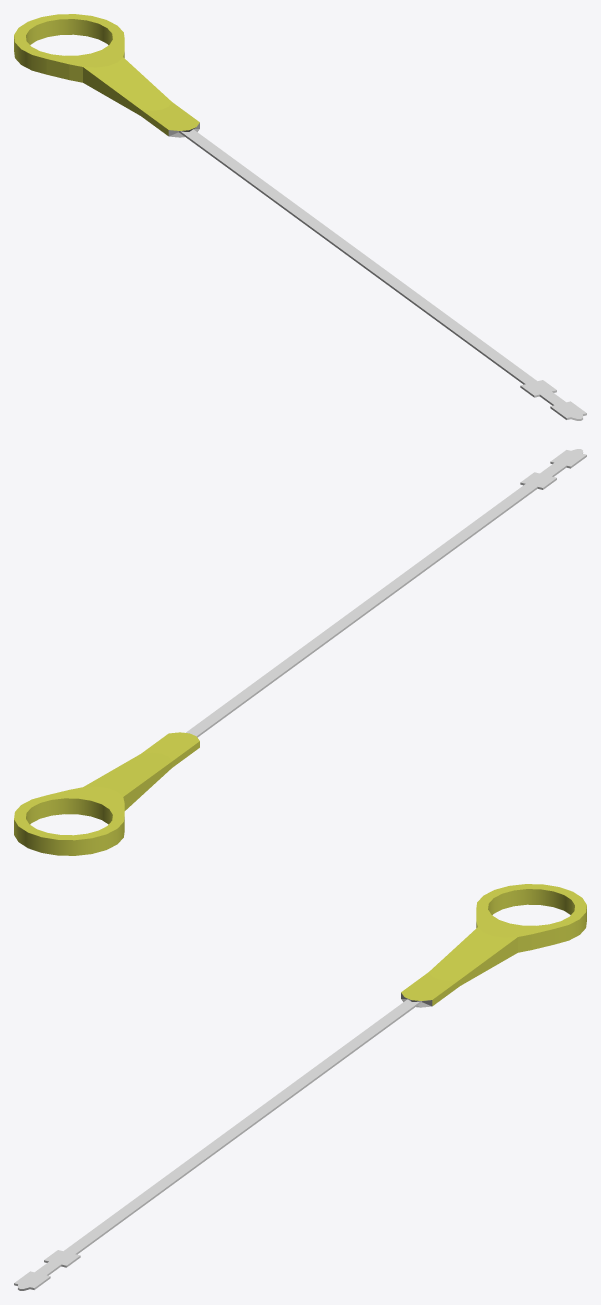
File: OilDipstick.fbx
The picture shows the model from 3 angles, top to bottom: view 1: azimuth 30°, elevation 25°; view 2: azimuth 150°, elevation 25°; view 3: azimuth 330°, elevation 25°; orthographic projection.
Visible parts, largest first — view 1: pPipe1; view 2: pPipe1; view 3: pPipe1.
Part boxes in pixels (x1,y1,x2,y2): pPipe1: (14,14,586,420); pPipe1: (14,449,586,855); pPipe1: (14,884,586,1290).
Bounding box in the file's own units: 1.31 × 0.2038 × 12.65.
